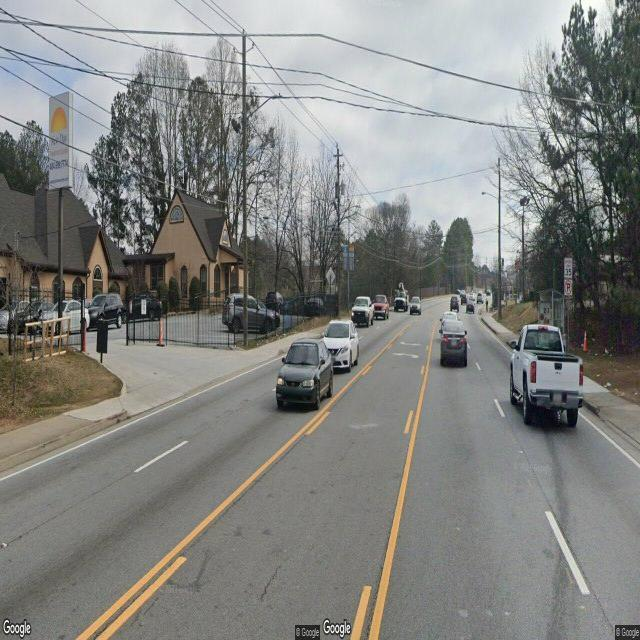shelter: (536, 288, 566, 351)
